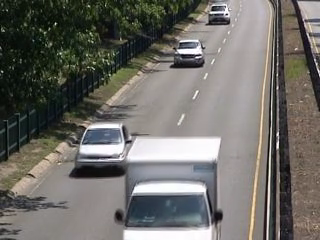car: (73, 124, 137, 173), (169, 38, 210, 69), (206, 2, 234, 28)
truck: (122, 133, 223, 240)
